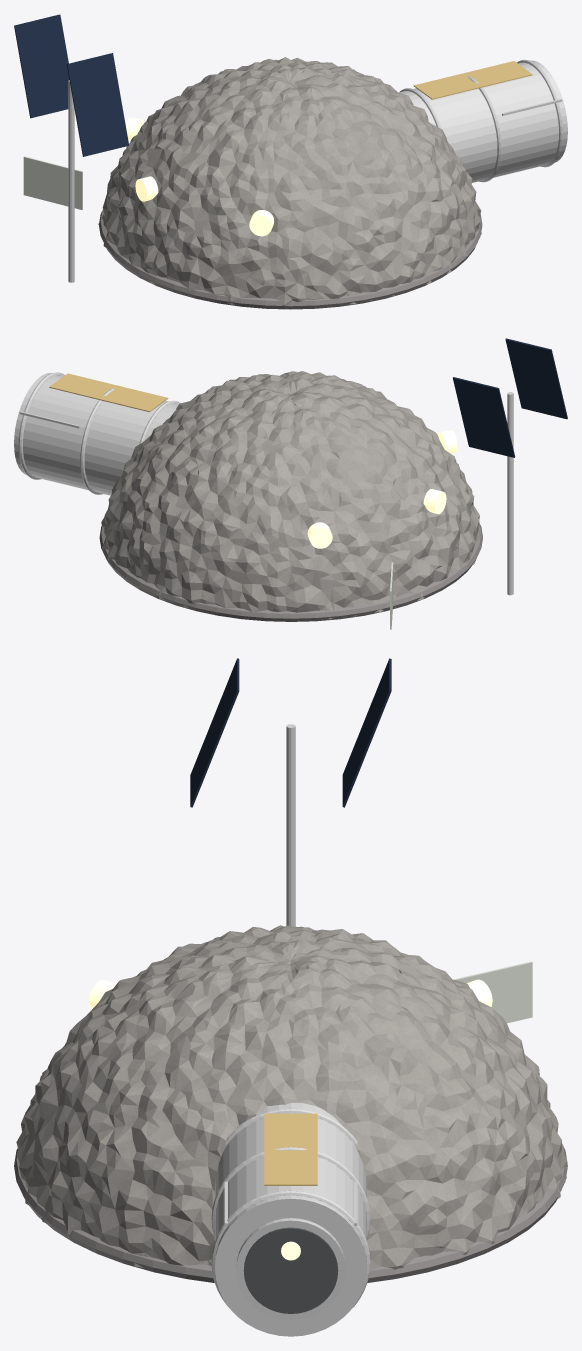
The model's file is habitat.glb.
The picture shows the model from 3 angles, top to bottom: view 1: azimuth 30°, elevation 25°; view 2: azimuth 150°, elevation 25°; view 3: azimuth 270°, elevation 25°; orthographic projection. The views are drawn at different scales.
Parts seen in each view (by area): view 1: habitat_shell, airlock, solar-1, solar1, base_ring, radiator, foil, mast, rib2, rib1, port2, port1; view 2: habitat_shell, airlock, base_ring, solar-1, solar1, foil, mast, rib2, rib1, port0, port1; view 3: habitat_shell, airlock, hatch, base_ring, foil, hatch_ring, radiator, mast, solar-1, solar1, rib2, rib1.
Part boxes in pixels (x1,y1,x2,y2): habitat_shell: (98, 57, 481, 308); airlock: (398, 60, 567, 182); solar-1: (66, 53, 129, 156); solar1: (14, 14, 69, 118); base_ring: (99, 210, 482, 309); radiator: (23, 156, 82, 209); foil: (413, 61, 532, 99); mast: (68, 80, 74, 282); rib2: (517, 59, 563, 167); rib1: (467, 76, 501, 182); port2: (249, 210, 274, 236); port1: (135, 176, 158, 201); habitat_shell: (101, 371, 481, 619); airlock: (14, 373, 178, 495); base_ring: (99, 524, 482, 621); solar-1: (505, 338, 567, 419); solar1: (453, 377, 515, 457); foil: (49, 373, 168, 412); mast: (507, 392, 513, 595); rib2: (18, 372, 64, 479); rib1: (80, 388, 114, 494); port0: (307, 522, 332, 548); port1: (423, 489, 446, 514); habitat_shell: (16, 925, 566, 1273); airlock: (215, 1102, 366, 1336); hatch: (243, 1227, 338, 1313); base_ring: (14, 1143, 567, 1282); foil: (264, 1113, 317, 1185); hatch_ring: (236, 1218, 345, 1319); radiator: (453, 961, 532, 1023); mast: (286, 724, 295, 926); solar-1: (190, 658, 239, 807); solar1: (342, 658, 391, 807); rib2: (211, 1190, 370, 1307); rib1: (211, 1147, 370, 1239).
Bounding box in the file's own units: 10.94 × 5.01 × 7.28.
3 materials, 3 textured.
